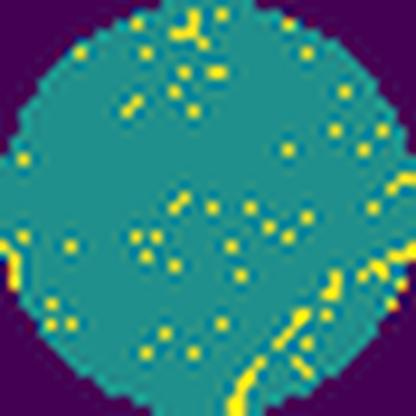Scratch: (219, 302, 317, 416)
